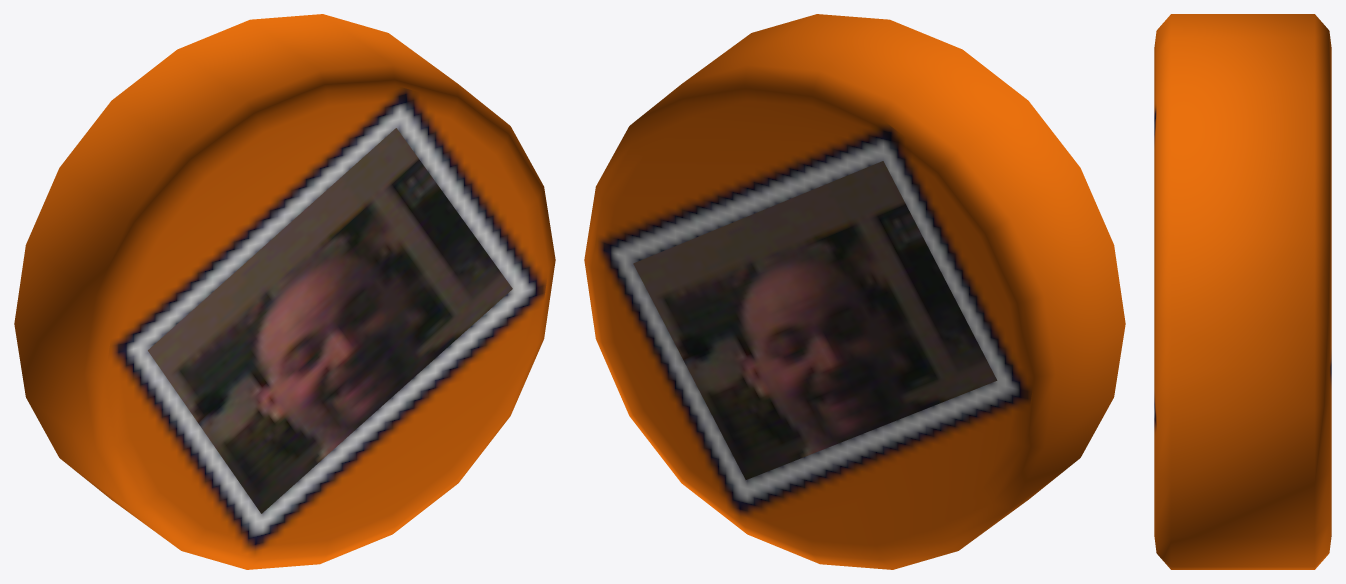
Rendered from cube.ico.obj.
The picture shows the model from 3 angles, left to right: view 1: azimuth 30°, elevation 25°; view 2: azimuth 150°, elevation 25°; view 3: azimuth 270°, elevation 25°; orthographic projection. The views are drawn at different scales.
Size of the model in its own units: 4.87 by 4.87 by 1.54.
1 material, 1 textured.
